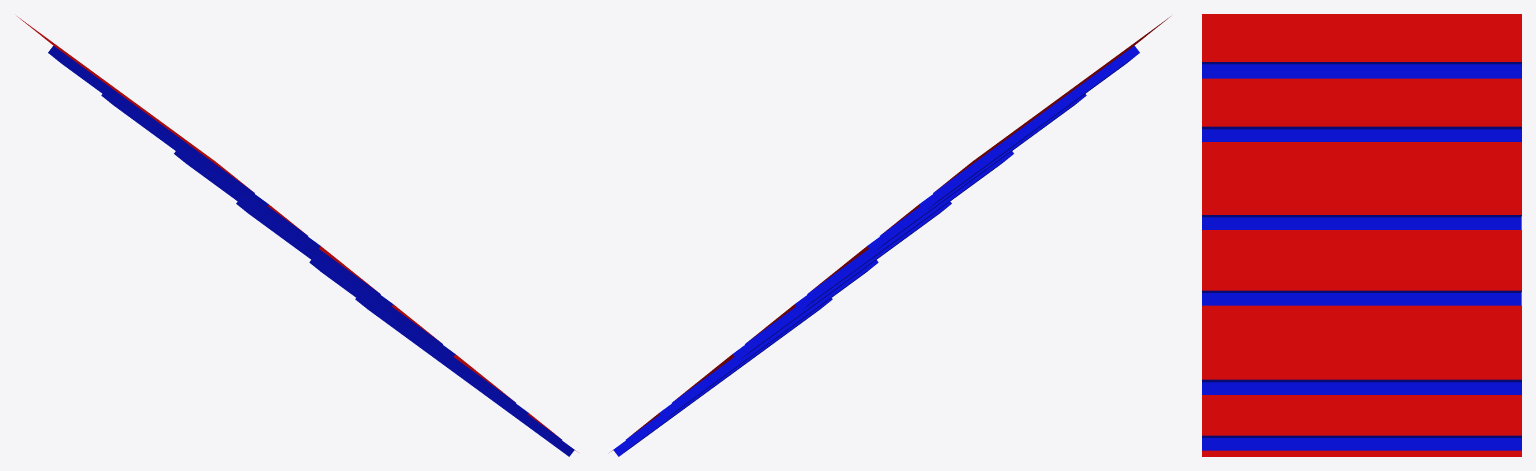
The model's file is takfonster_wo_windows.fbx.
The picture shows the model from 3 angles, left to right: view 1: azimuth 30°, elevation 25°; view 2: azimuth 150°, elevation 25°; view 3: azimuth 270°, elevation 25°; orthographic projection. The views are drawn at different scales.
Parts seen in each view (by area): view 1: takfonster_wo_windows; view 2: takfonster_wo_windows; view 3: takfonster_wo_windows.
Boxes of the visible parts, x1,y1,x2,y2 form: takfonster_wo_windows: (17, 16, 578, 456); takfonster_wo_windows: (609, 16, 1170, 456); takfonster_wo_windows: (1202, 14, 1521, 456).
Size of the model in its own units: 209 by 209 by 200.
